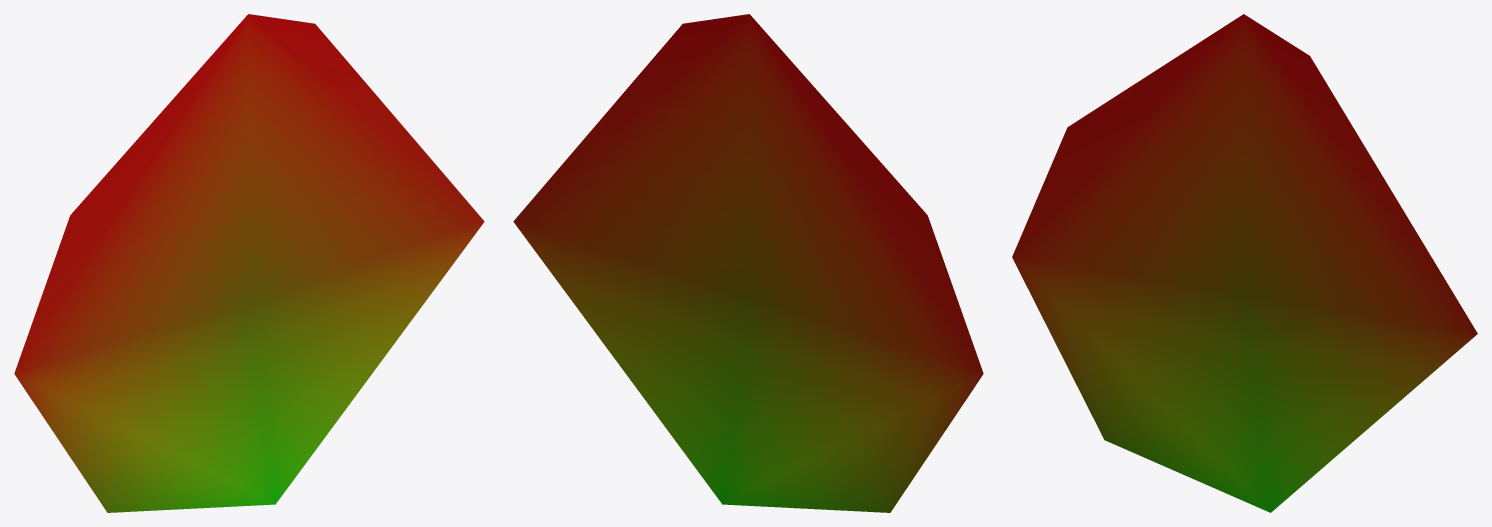
Rendered from Field Poppy_LOD4_Var14_vmcobd0ja.fbx.
The picture shows the model from 3 angles, left to right: view 1: azimuth 30°, elevation 25°; view 2: azimuth 150°, elevation 25°; view 3: azimuth 330°, elevation 25°; orthographic projection.
Parts seen in each view (by area): view 1: _kz8e_Var14_LOD4; view 2: _kz8e_Var14_LOD4; view 3: _kz8e_Var14_LOD4.
Part boxes in pixels (x1,y1,x2,y2): _kz8e_Var14_LOD4: (14,14,484,512); _kz8e_Var14_LOD4: (513,14,983,512); _kz8e_Var14_LOD4: (1012,14,1477,512).
Size of the model in its own units: 29.72 by 30.01 by 3.58e-06.
